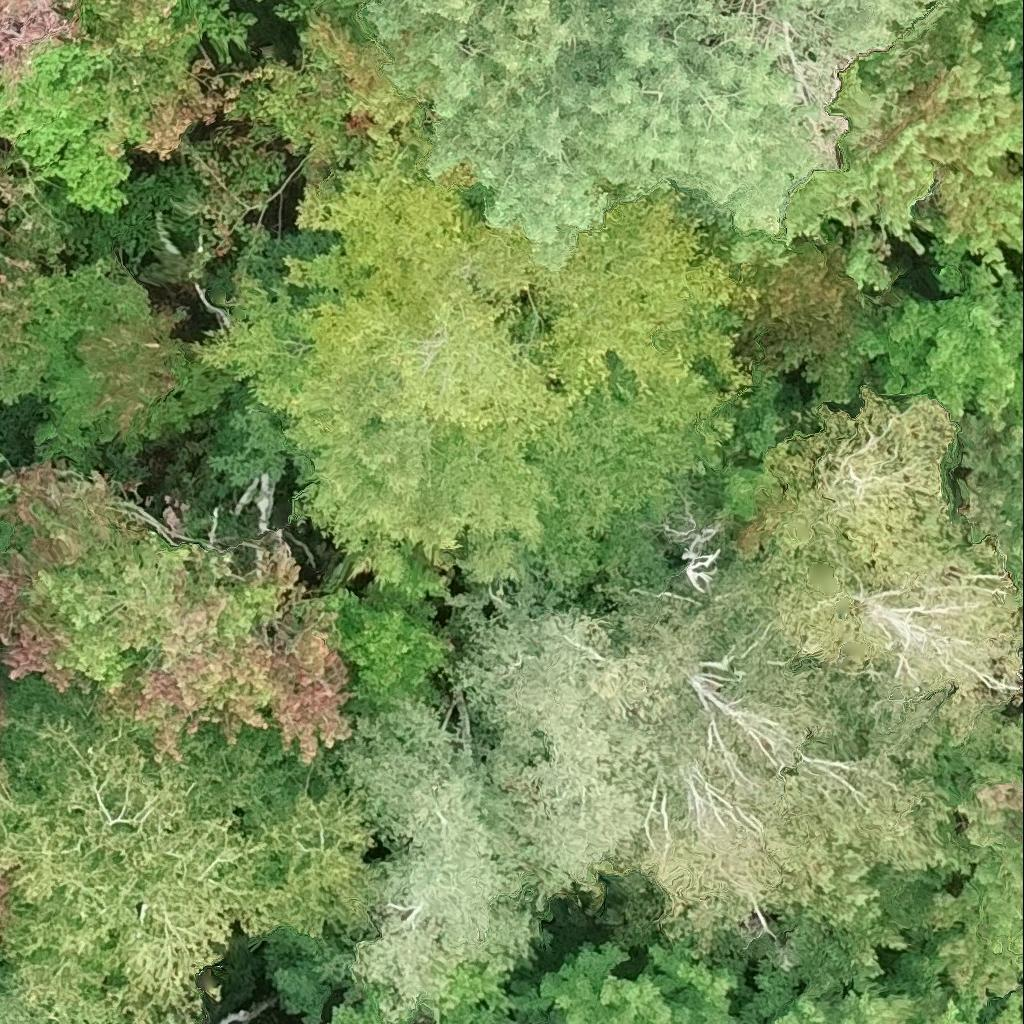crown: (155, 150, 781, 596), (599, 525, 990, 954), (369, 0, 942, 266), (0, 463, 354, 769), (732, 0, 1023, 293), (0, 710, 262, 1023), (342, 697, 572, 1023), (174, 15, 437, 275), (447, 580, 657, 893), (0, 0, 254, 213), (773, 534, 1023, 747), (759, 384, 971, 614), (0, 259, 206, 466), (227, 773, 385, 956), (857, 257, 1023, 429), (930, 717, 1023, 1010), (729, 897, 917, 1023), (536, 937, 737, 1023), (329, 572, 448, 704), (0, 0, 80, 102), (0, 988, 128, 1023), (328, 988, 388, 1023), (0, 692, 13, 784), (157, 1014, 186, 1023), (0, 872, 5, 920), (919, 1021, 935, 1023), (135, 1022, 146, 1023)
